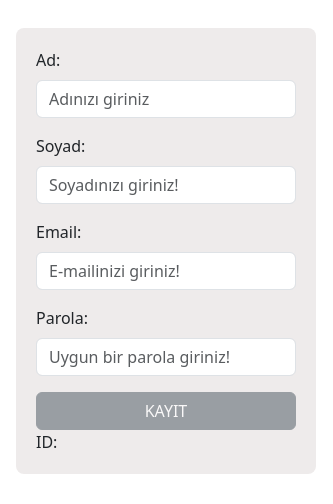
Test: Form Page › Error Messages › email input throws error for elif@gma
In the field with test id "email-input": coordinates (166, 271) [36,252,296,290], type "elif@gma"
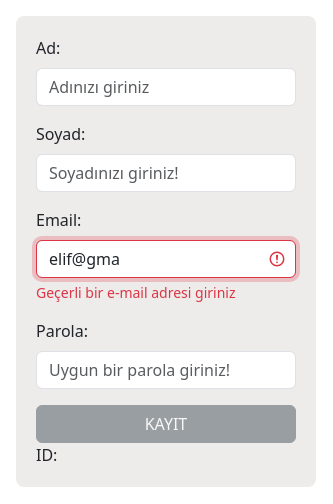
Check: the text "Geçerli bir e-mail adresi giriniz" is shown, box [36,282,236,302]
